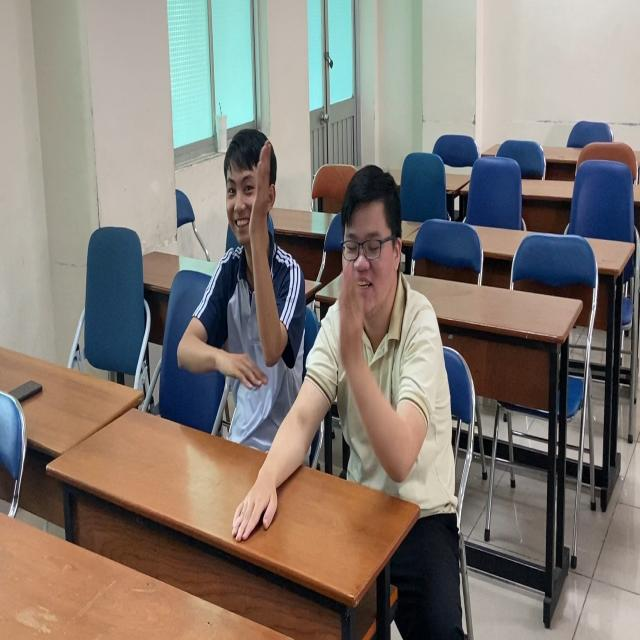raise_hand: (195, 122, 302, 466)
